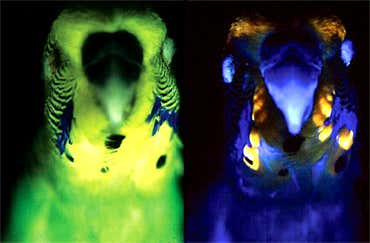budgie: (7, 10, 185, 243)
